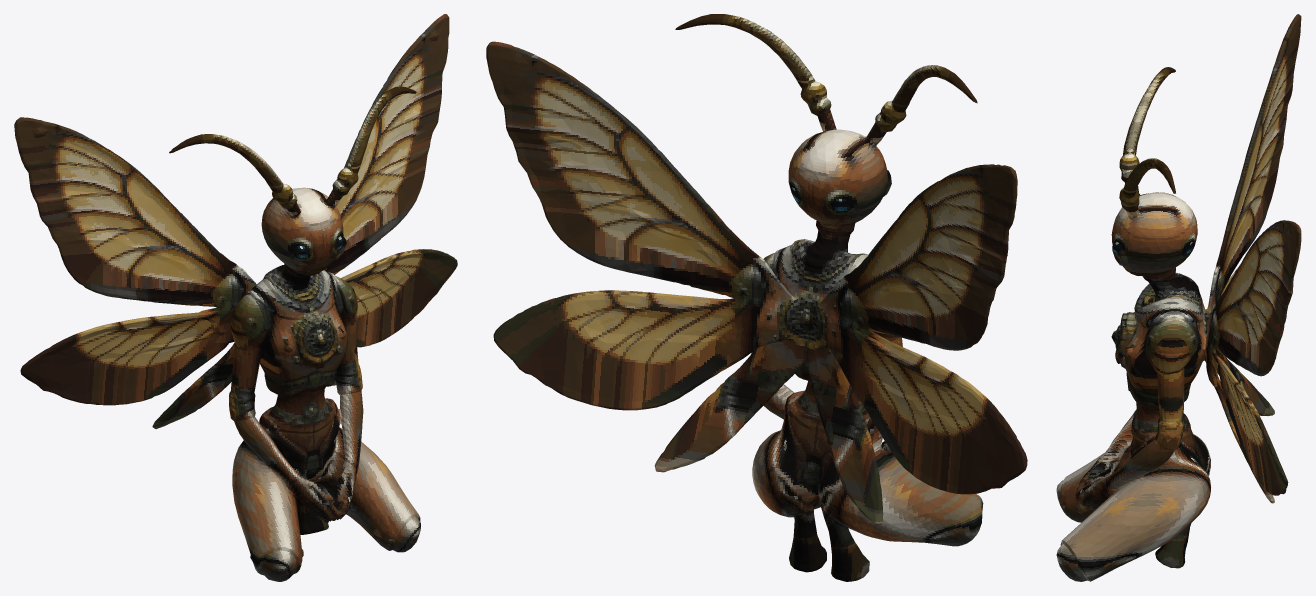
File: moth.glb
3 renders of one model, left to right at view 1: azimuth 30°, elevation 25°; view 2: azimuth 150°, elevation 25°; view 3: azimuth 270°, elevation 25°, orthographic. The views are drawn at different scales.
Visible parts, largest first — view 1: Body, Head, Lid; view 2: Body, Head, Lid; view 3: Body, Head, Lid.
Part boxes in pixels (x1,y1,x2,y2): Body: (14, 14, 457, 581); Head: (261, 161, 354, 275); Lid: (264, 169, 349, 228); Body: (486, 14, 1027, 581); Head: (788, 74, 896, 238); Lid: (791, 83, 892, 178); Body: (1056, 14, 1301, 581); Head: (1111, 145, 1197, 281); Lid: (1117, 156, 1194, 231).
Bounding box in the file's own units: 2.43 × 2.29 × 1.16.
Materials: 2 (1 with a texture image).
